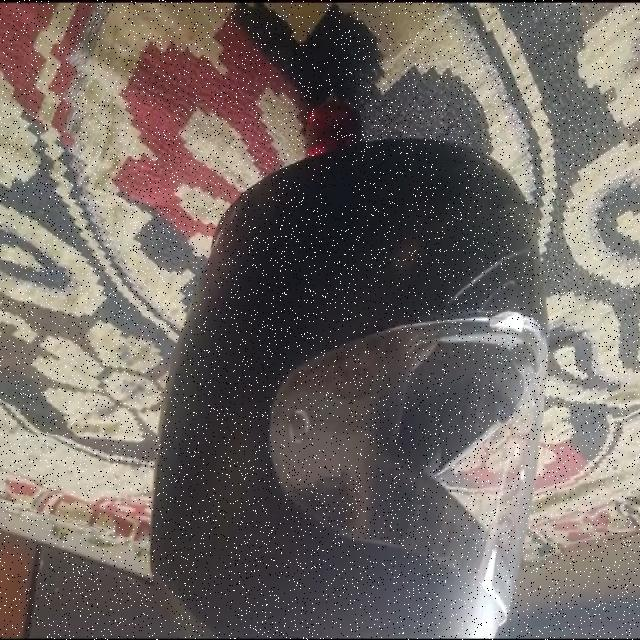Helmet: (150, 138, 549, 635)
